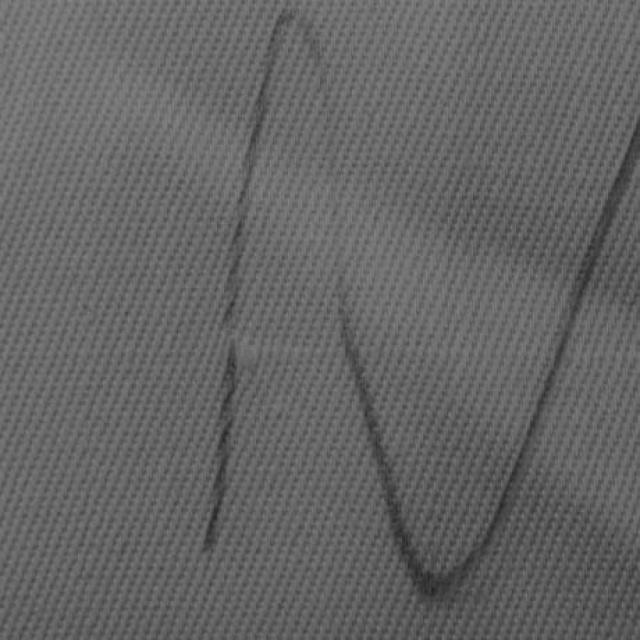stains: (167, 288, 640, 410)
